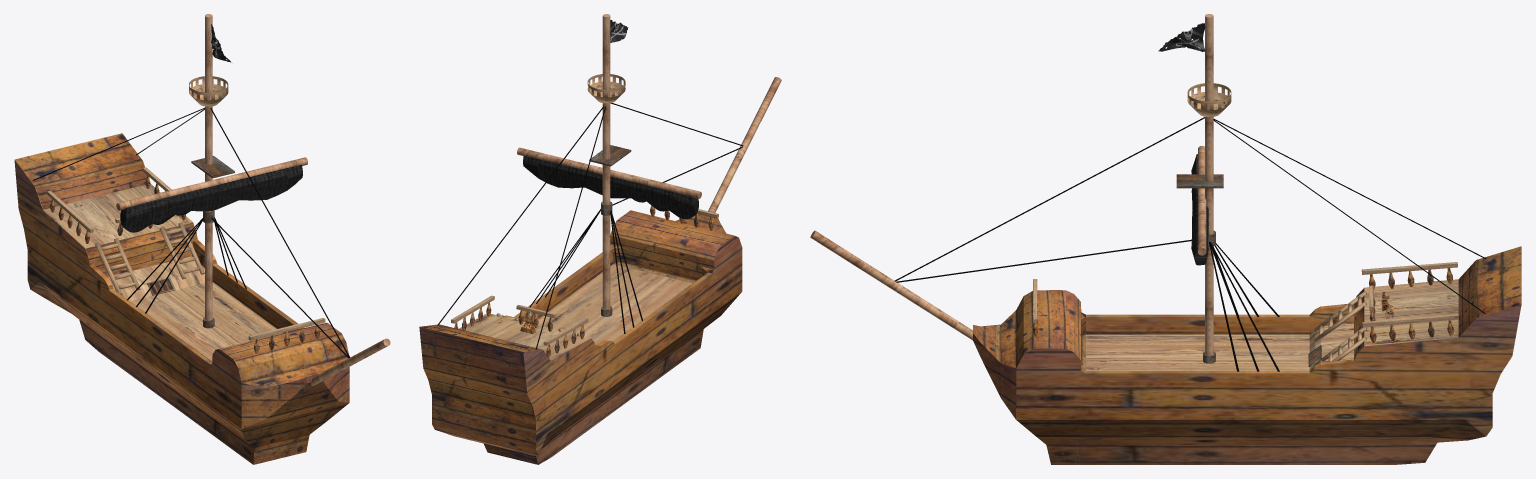
File: cartoonic_pirates_ship.fbx
3 renders of one model, left to right at view 1: azimuth 30°, elevation 25°; view 2: azimuth 150°, elevation 25°; view 3: azimuth 270°, elevation 25°, orthographic. The views are drawn at different scales.
Parts seen in each view (by area): view 1: body_body_ﺐﻌﻜﻣ.001, stands_soft_ﺐﻌﻜﻣ.002, walls_ship_ﺐﻌﻜﻣ.001; view 2: body_body_ﺐﻌﻜﻣ.001, stands_soft_ﺐﻌﻜﻣ.002, walls_ship_ﺐﻌﻜﻣ.001; view 3: body_body_ﺐﻌﻜﻣ.001, stands_soft_ﺐﻌﻜﻣ.002, walls_ship_ﺐﻌﻜﻣ.001.
Part boxes in pixels (left/top/right/bottom): body_body_ﺐﻌﻜﻣ.001: left=14, top=133, right=349, bottom=464; stands_soft_ﺐﻌﻜﻣ.002: left=33, top=14, right=390, bottom=385; walls_ship_ﺐﻌﻜﻣ.001: left=47, top=167, right=325, bottom=353; body_body_ﺐﻌﻜﻣ.001: left=419, top=210, right=742, bottom=464; stands_soft_ﺐﻌﻜﻣ.002: left=437, top=14, right=781, bottom=349; walls_ship_ﺐﻌﻜﻣ.001: left=451, top=205, right=718, bottom=357; body_body_ﺐﻌﻜﻣ.001: left=973, top=246, right=1521, bottom=464; stands_soft_ﺐﻌﻜﻣ.002: left=810, top=14, right=1485, bottom=371; walls_ship_ﺐﻌﻜﻣ.001: left=1032, top=262, right=1458, bottom=366.
Bounding box in the file's own units: 3647 × 7246 × 10741.
3 materials, 3 textured.
